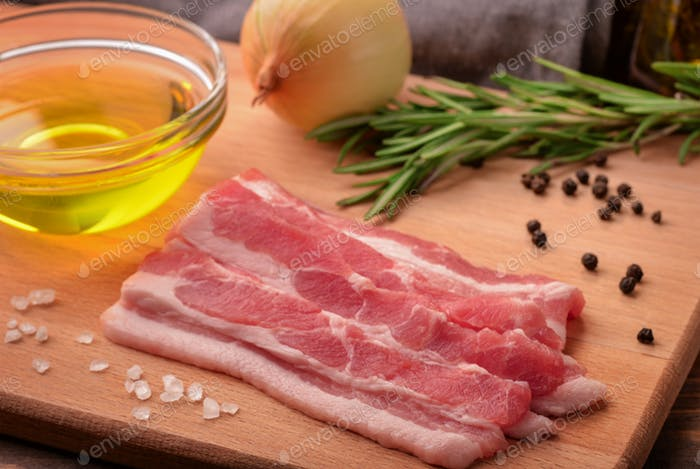bacon: (136, 180, 591, 448)
